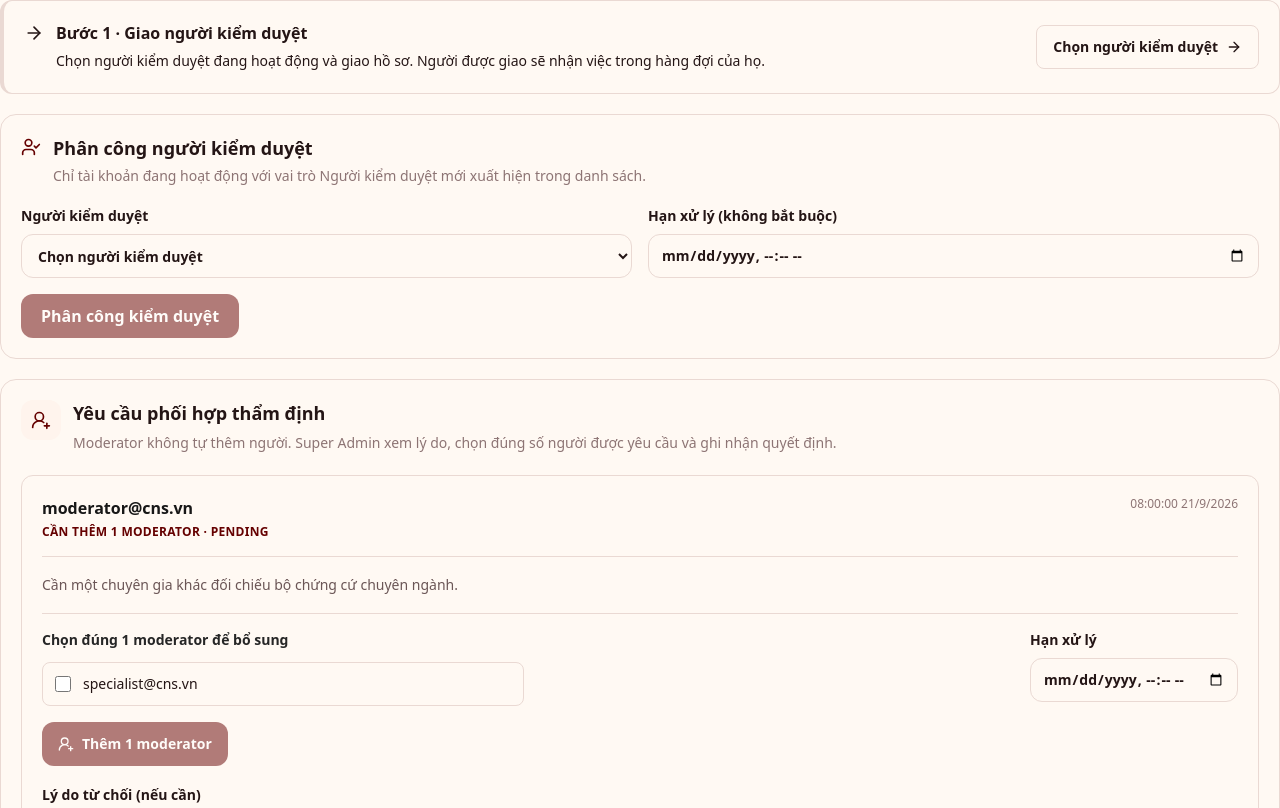
Test: ReviewLifecyclePanel › requires the exact requested reviewer selection before approval
The image size is (1280, 808).
Expected: the button "Thêm 1 moderator" is disabled, 42,722 -> 228,766
Click the checkbox labelled "specialist@cns.vn". click: click(63, 684)
box: 55,676 -> 71,692
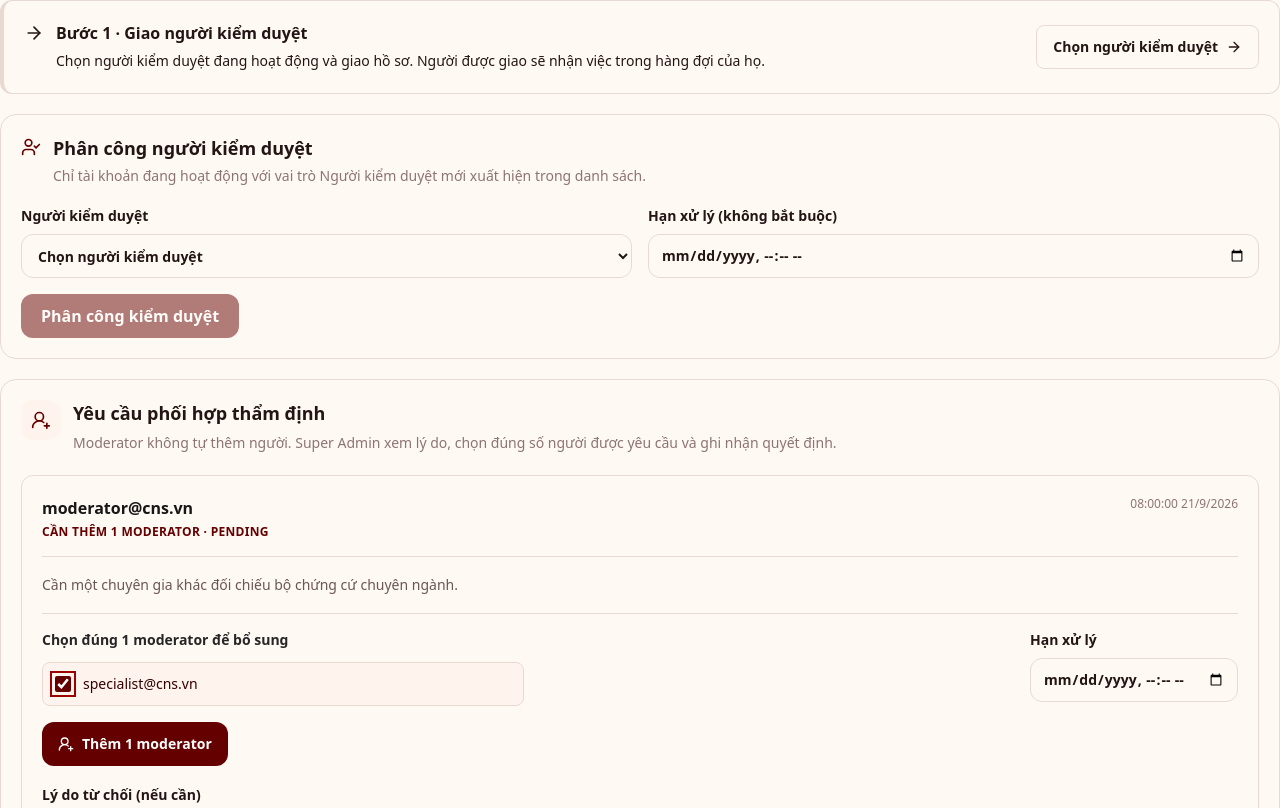
Click the button "Thêm 1 moderator". click: click(135, 744)
box: 42,722 -> 228,766
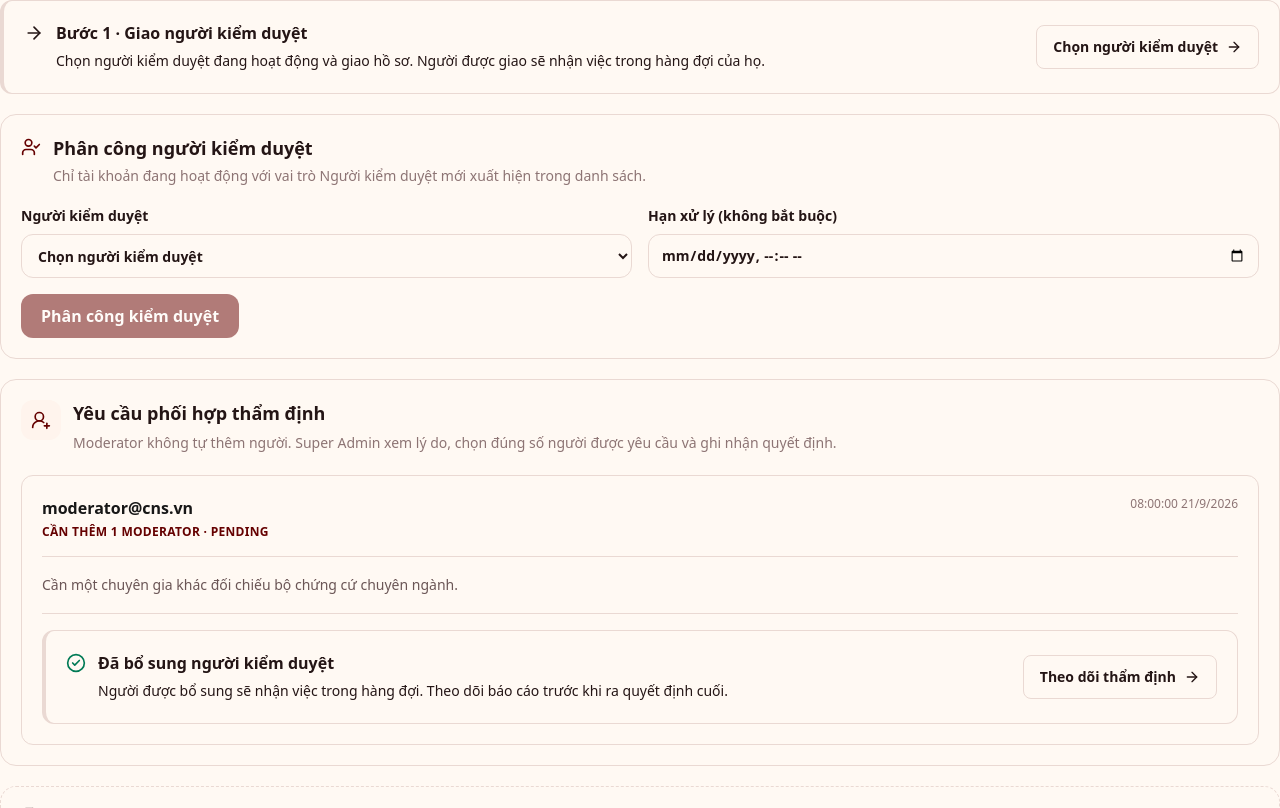
Expected: the heading "Đã bổ sung người kiểm duyệt" is shown, 98,652 -> 334,674
